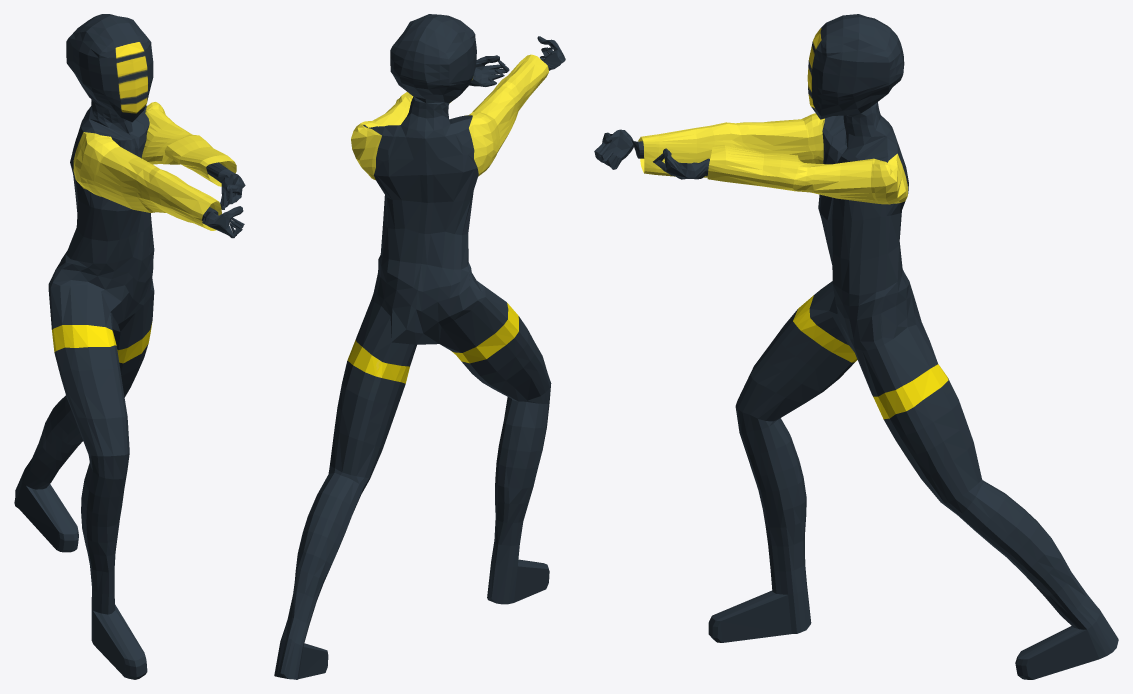
Rendered from Sentry_Attack_000023.obj.
The picture shows the model from 3 angles, left to right: view 1: azimuth 30°, elevation 25°; view 2: azimuth 150°, elevation 25°; view 3: azimuth 270°, elevation 25°; orthographic projection. The views are drawn at different scales.
Parts seen in each view (by area): view 1: Cube; view 2: Cube; view 3: Cube.
Part boxes in pixels (box(x1,y1,x2,y2)): Cube: box(14, 14, 245, 679); Cube: box(274, 14, 565, 679); Cube: box(594, 14, 1118, 679).
Bounding box in the file's own units: 0.9022 × 3.76 × 2.78.
